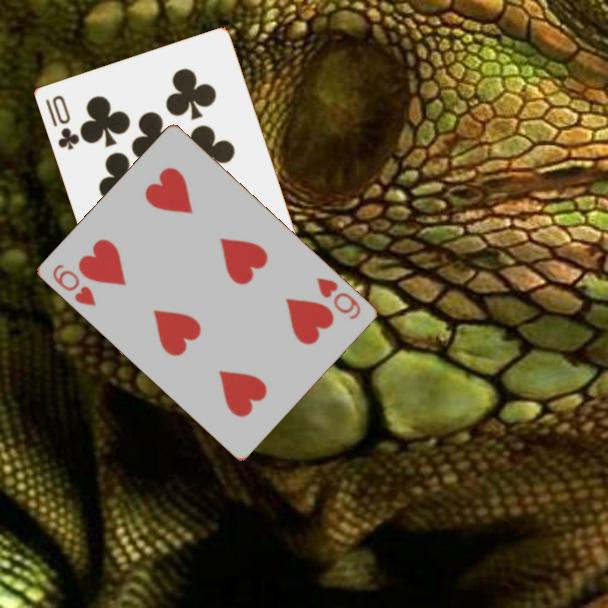c10: (42, 92, 83, 153)
h06: (313, 274, 365, 322), (49, 261, 99, 309)
